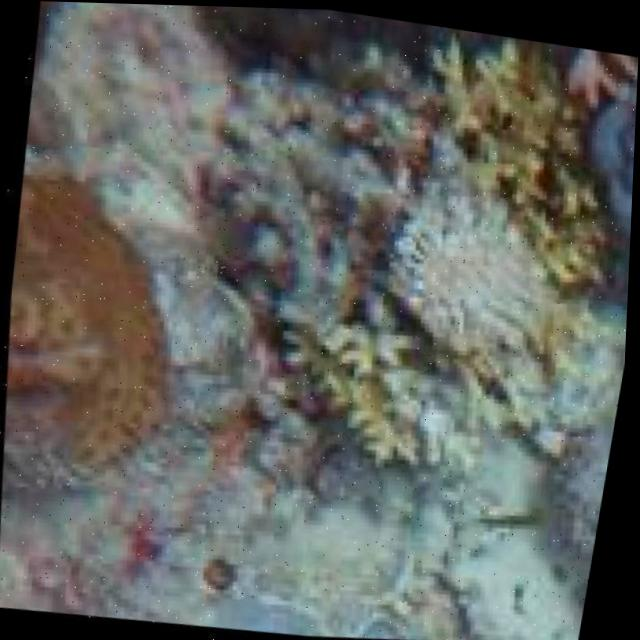Bleached Coral: (391, 162, 566, 379)
